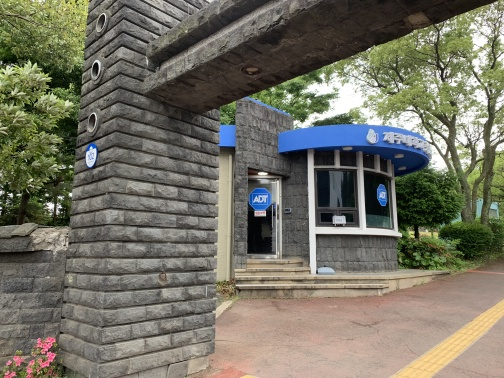Security Office: (228, 106, 441, 305)
